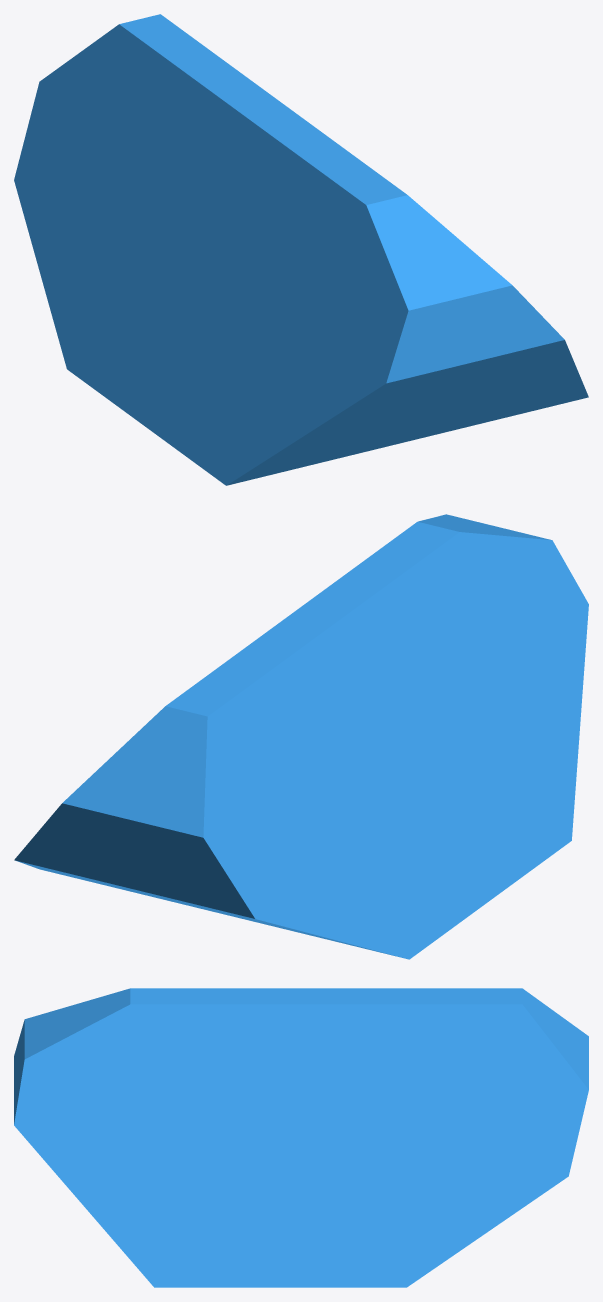
Rendered from Rebar_Wall_02_Col.FBX.
The picture shows the model from 3 angles, top to bottom: view 1: azimuth 30°, elevation 25°; view 2: azimuth 150°, elevation 25°; view 3: azimuth 270°, elevation 25°; orthographic projection. The views are drawn at different scales.
Parts seen in each view (by area): view 1: Rebar_Wall_02_Col; view 2: Rebar_Wall_02_Col; view 3: Rebar_Wall_02_Col.
Boxes of the visible parts, x1,y1,x2,y2 form: Rebar_Wall_02_Col: (14,14,588,485); Rebar_Wall_02_Col: (14,514,588,959); Rebar_Wall_02_Col: (14,988,588,1287).
Bounding box in the file's own units: 88.14 × 60.65 × 153.
